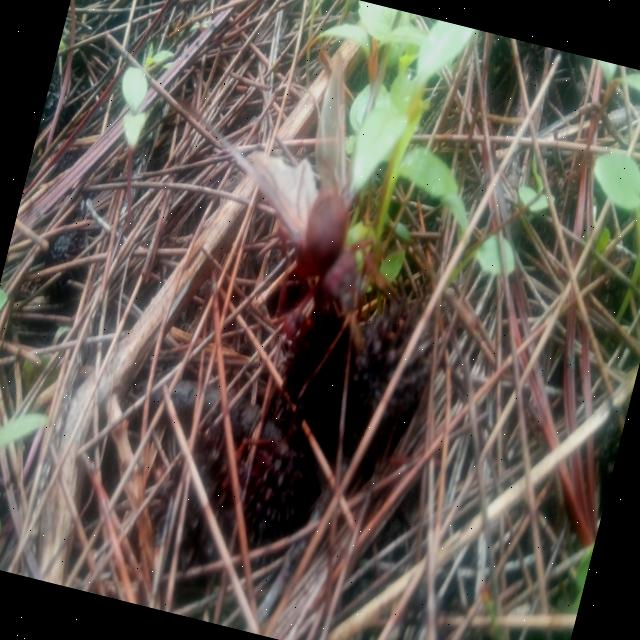Alive-Female-Alate: (207, 38, 456, 376)
